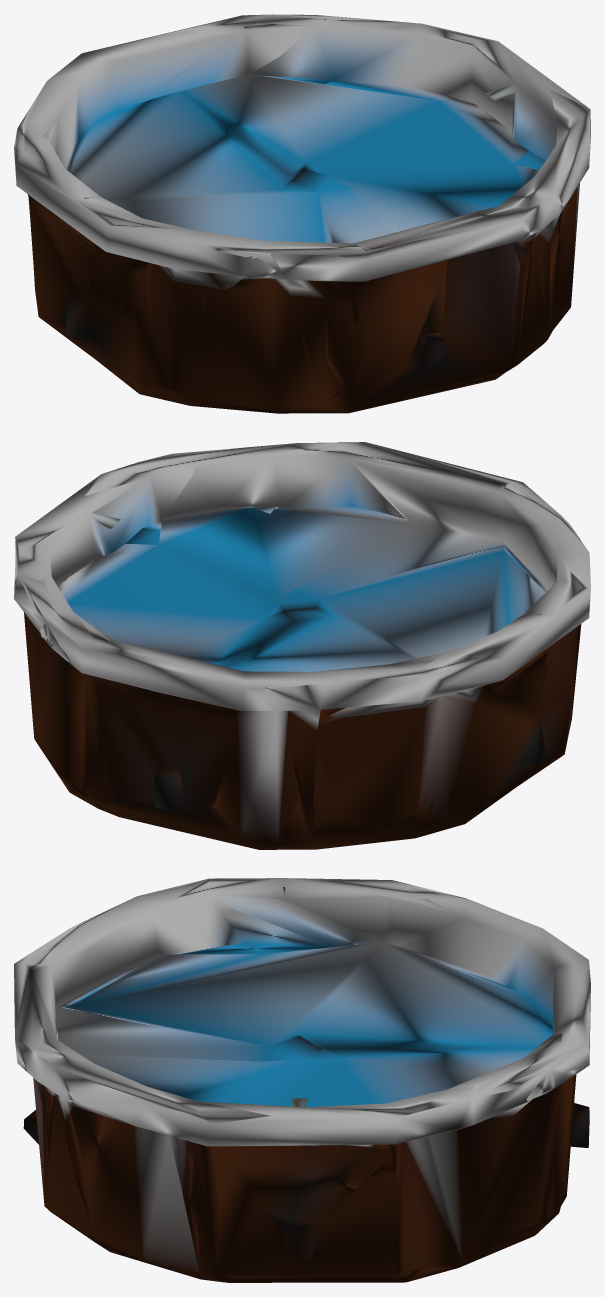
Rendered from gen3d-hot-tub-lod1.glb.
3 renders of one model, top to bottom at view 1: azimuth 30°, elevation 25°; view 2: azimuth 150°, elevation 25°; view 3: azimuth 270°, elevation 25°, orthographic. The views are drawn at different scales.
Visible parts, largest first — view 1: part_0; view 2: part_0; view 3: part_0.
Boxes of the visible parts, bbox=[...] form: part_0: bbox=[14, 14, 590, 413]; part_0: bbox=[14, 442, 590, 849]; part_0: bbox=[14, 878, 590, 1282].
Bounding box in the file's own units: 2.9 × 0.9991 × 2.91.
